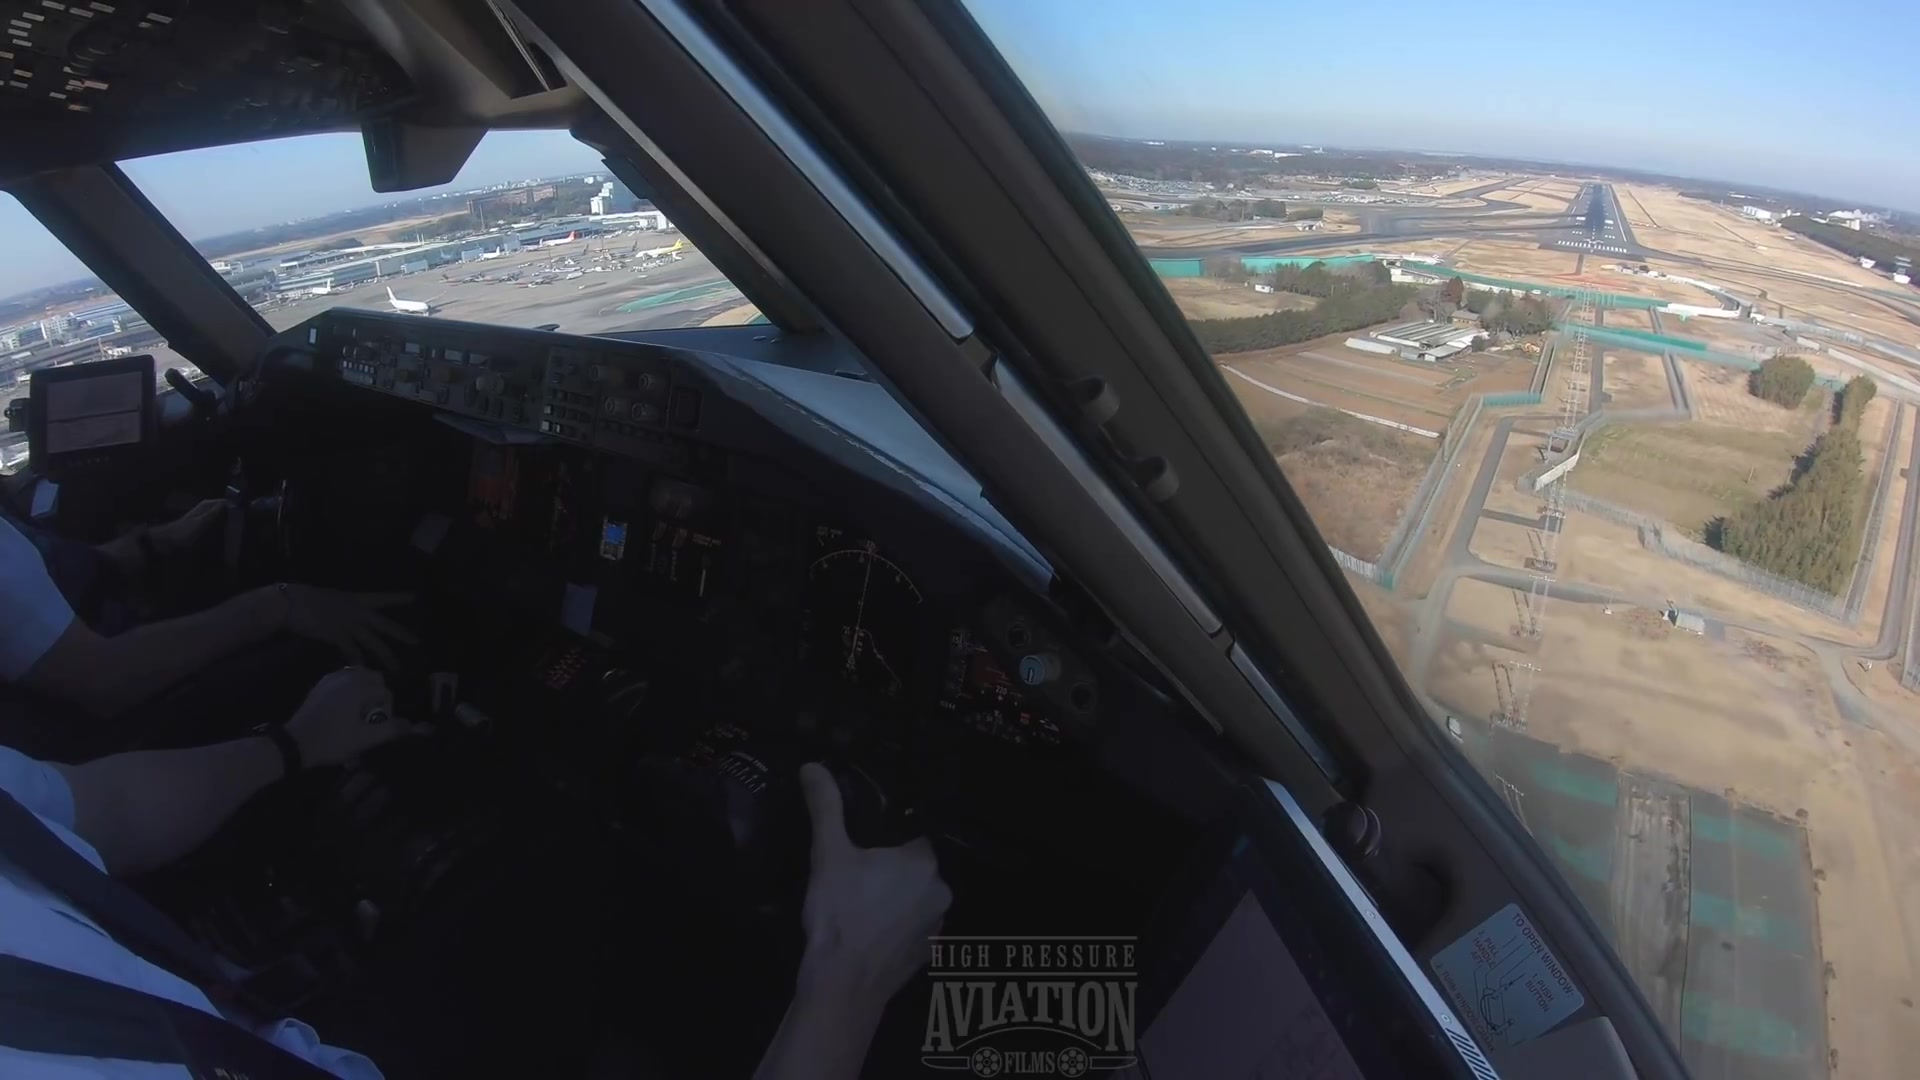entrance: (1556, 236, 1627, 255)
runway: (1538, 182, 1644, 264)
